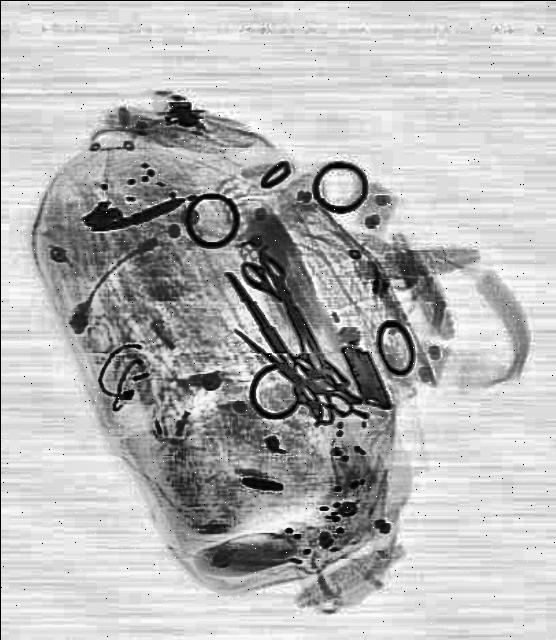Scissors: (193, 254, 345, 452), (239, 242, 323, 351)
